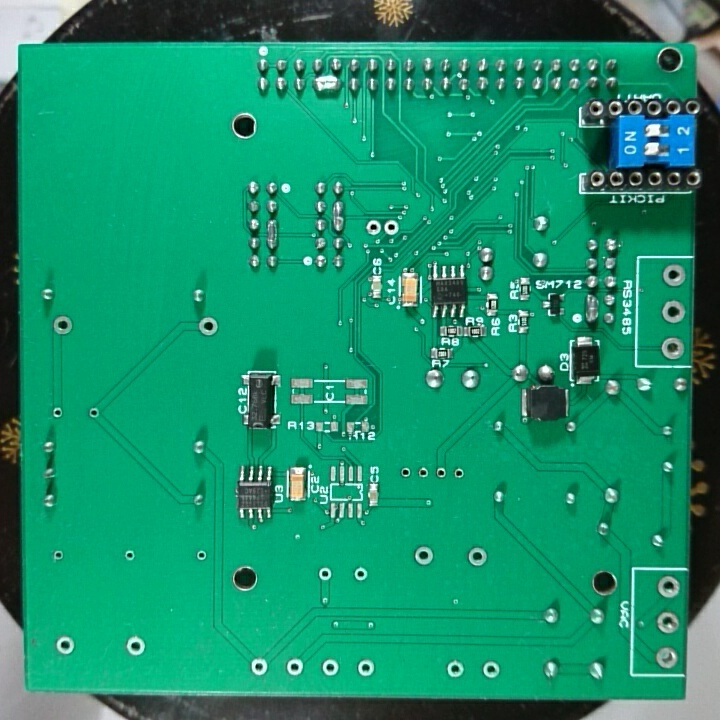F: (659, 298, 687, 326), (659, 335, 687, 362), (660, 262, 686, 289), (655, 574, 681, 600), (656, 609, 679, 638), (654, 643, 679, 669), (124, 634, 148, 659), (51, 314, 76, 338), (197, 314, 220, 340), (54, 633, 77, 658), (412, 544, 435, 568), (465, 546, 489, 569), (445, 658, 467, 683), (355, 656, 377, 680), (248, 655, 270, 679), (481, 658, 503, 680), (285, 655, 306, 678), (382, 215, 401, 240), (319, 655, 338, 678), (362, 217, 382, 238), (122, 545, 139, 567), (397, 461, 414, 483), (84, 403, 102, 423), (414, 463, 431, 483), (50, 545, 66, 566), (352, 565, 368, 586), (317, 566, 336, 583), (49, 403, 65, 423), (451, 464, 467, 482), (433, 465, 449, 482), (194, 548, 208, 564)
P: (311, 72, 344, 98), (331, 199, 348, 235), (583, 290, 599, 326), (264, 218, 280, 252)
